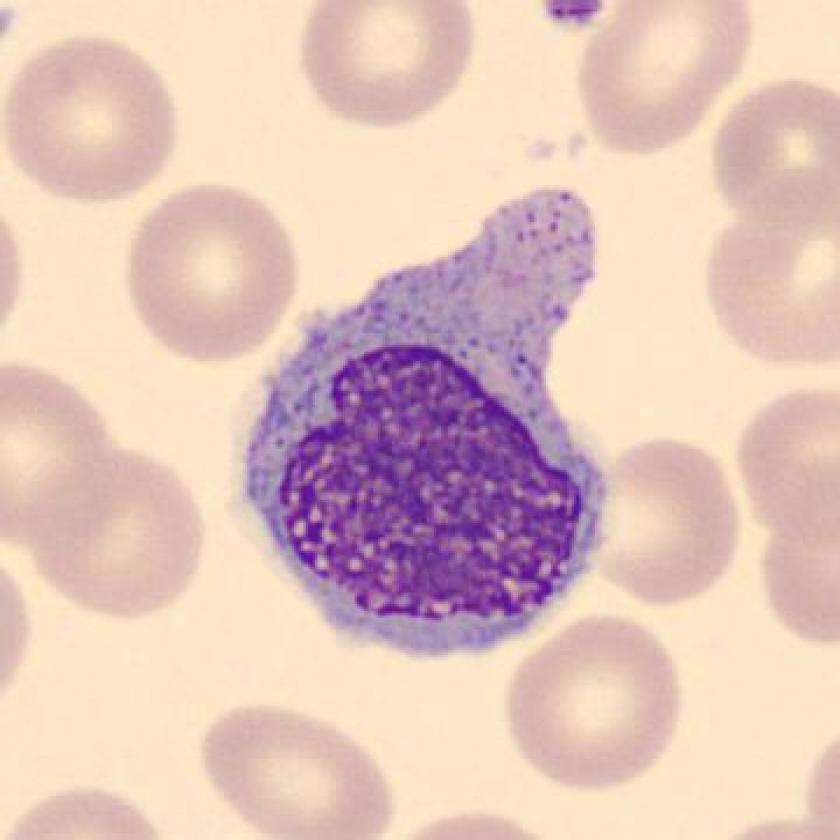monocyte: (223, 172, 633, 672)
